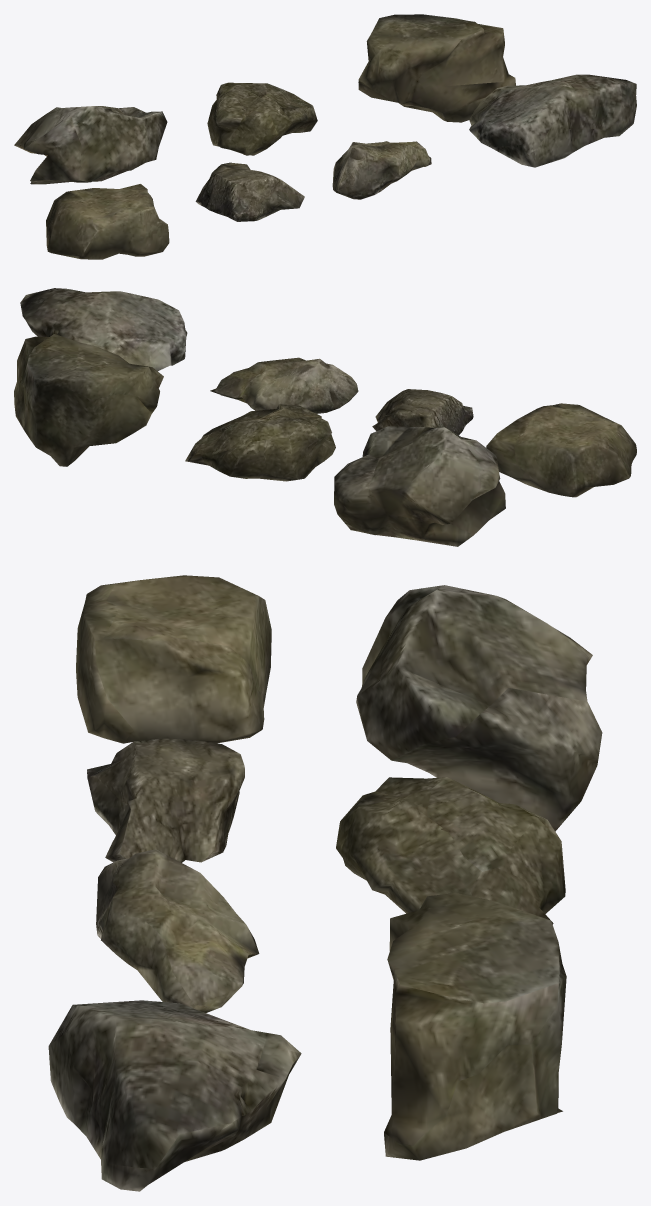
Rendered from rock_moss_set_02-low.glb.
The picture shows the model from 3 angles, top to bottom: view 1: azimuth 30°, elevation 25°; view 2: azimuth 150°, elevation 25°; view 3: azimuth 270°, elevation 25°; orthographic projection. The views are drawn at different scales.
Parts seen in each view (by area): view 1: rock_moss_set_02_rock13, rock_moss_set_02_rock10, rock_moss_set_02_rock11, rock_moss_set_02_rock07, rock_moss_set_02_rock12, rock_moss_set_02_rock08, rock_moss_set_02_rock09; view 2: rock_moss_set_02_rock11, rock_moss_set_02_rock13, rock_moss_set_02_rock07, rock_moss_set_02_rock10, rock_moss_set_02_rock12, rock_moss_set_02_rock09, rock_moss_set_02_rock08; view 3: rock_moss_set_02_rock11, rock_moss_set_02_rock13, rock_moss_set_02_rock10, rock_moss_set_02_rock07, rock_moss_set_02_rock12, rock_moss_set_02_rock09, rock_moss_set_02_rock08.
Part boxes in pixels (box(x1,y1,x2,y2)): rock_moss_set_02_rock13: box(358, 14, 515, 122); rock_moss_set_02_rock10: box(469, 74, 636, 167); rock_moss_set_02_rock11: box(14, 106, 167, 184); rock_moss_set_02_rock07: box(46, 184, 169, 259); rock_moss_set_02_rock12: box(207, 82, 317, 155); rock_moss_set_02_rock08: box(195, 162, 304, 221); rock_moss_set_02_rock09: box(332, 141, 431, 199); rock_moss_set_02_rock11: box(334, 426, 505, 546); rock_moss_set_02_rock13: box(14, 334, 163, 466); rock_moss_set_02_rock07: box(486, 403, 636, 497); rock_moss_set_02_rock10: box(20, 288, 187, 371); rock_moss_set_02_rock12: box(185, 404, 335, 481); rock_moss_set_02_rock09: box(210, 357, 358, 413); rock_moss_set_02_rock08: box(372, 389, 473, 435); rock_moss_set_02_rock11: box(356, 585, 602, 831); rock_moss_set_02_rock13: box(384, 893, 566, 1160); rock_moss_set_02_rock10: box(48, 1000, 301, 1191); rock_moss_set_02_rock07: box(76, 575, 271, 743); rock_moss_set_02_rock12: box(336, 777, 565, 924); rock_moss_set_02_rock09: box(96, 849, 259, 1012); rock_moss_set_02_rock08: box(87, 738, 244, 862).
Bounding box in the file's own units: 8.26 × 1.36 × 3.4.
1 material, 1 textured.
